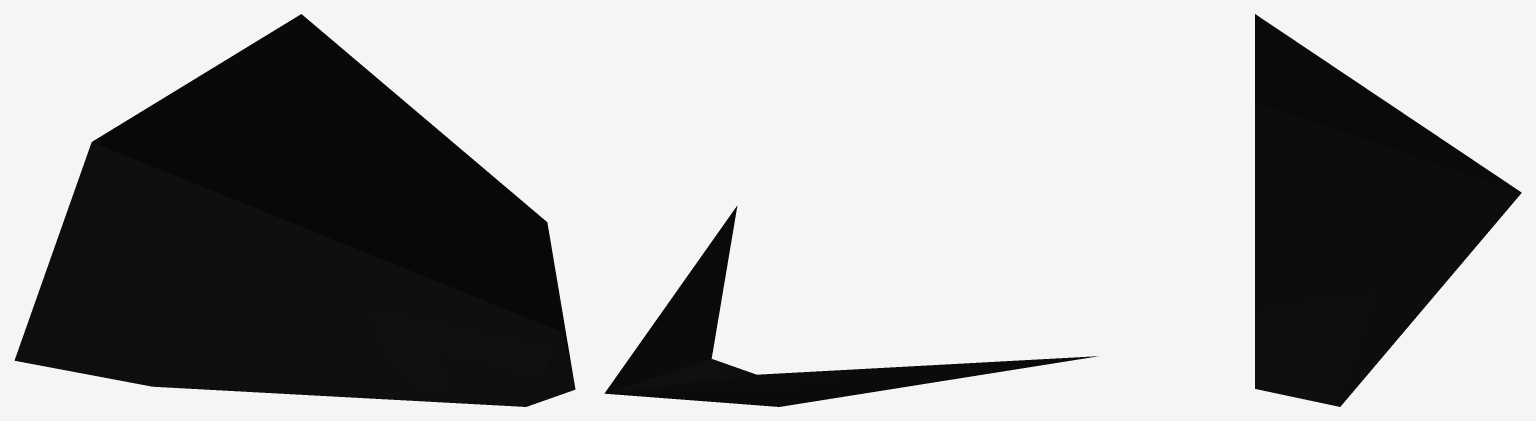
The picture shows the model from 3 angles, left to right: view 1: azimuth 30°, elevation 25°; view 2: azimuth 150°, elevation 25°; view 3: azimuth 270°, elevation 25°; orthographic projection. The views are drawn at different scales.
Bounding box in the file's own units: 0.1919 × 0.1341 × 0.1113.
Materials: 1 (1 with a texture image).
